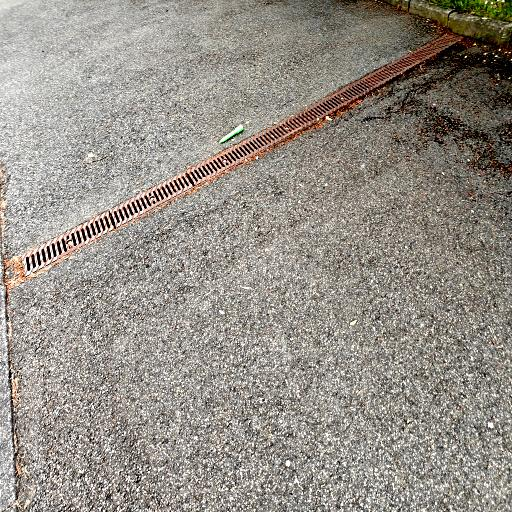Probe-Detection: (220, 125, 243, 143)
